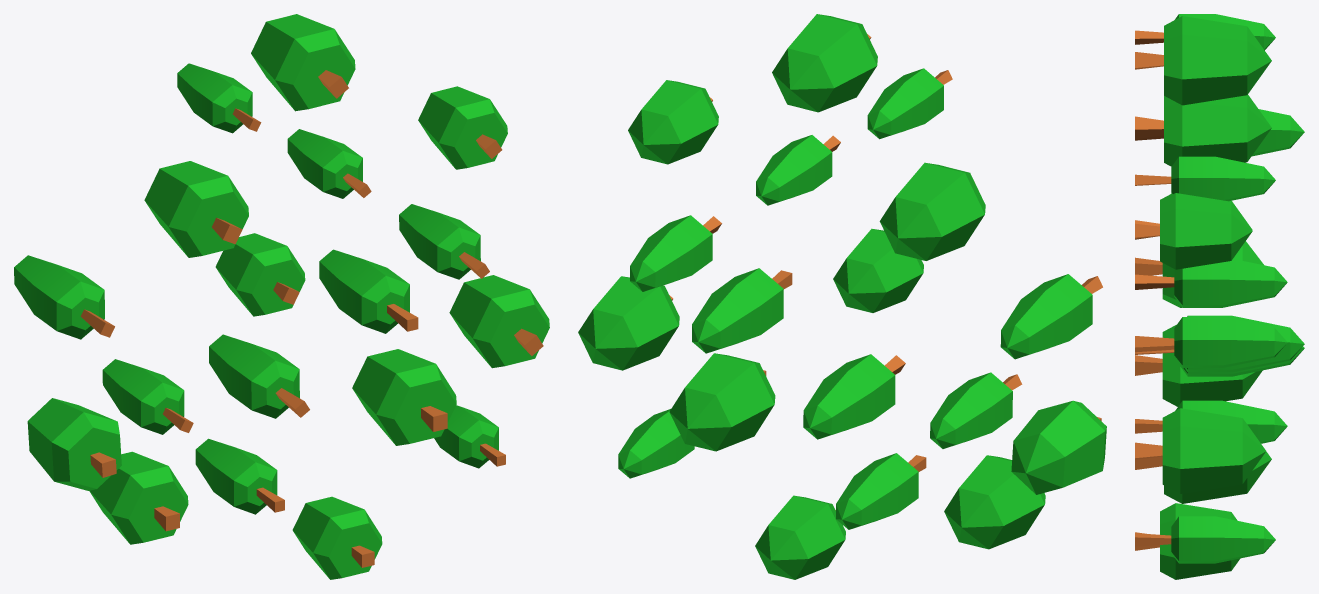
File: nature_forestRiver.fbx
3 renders of one model, left to right at view 1: azimuth 30°, elevation 25°; view 2: azimuth 150°, elevation 25°; view 3: azimuth 270°, elevation 25°, orthographic. The views are drawn at different scales.
Visible parts, largest first — view 1: Forest; view 2: Forest; view 3: Forest.
Part boxes in pixels (x1,y1,x2,y2): Forest: [14, 14, 549, 579]; Forest: [578, 14, 1106, 579]; Forest: [1135, 14, 1304, 579].
Bounding box in the file's own units: 173 × 181 × 52.39.
